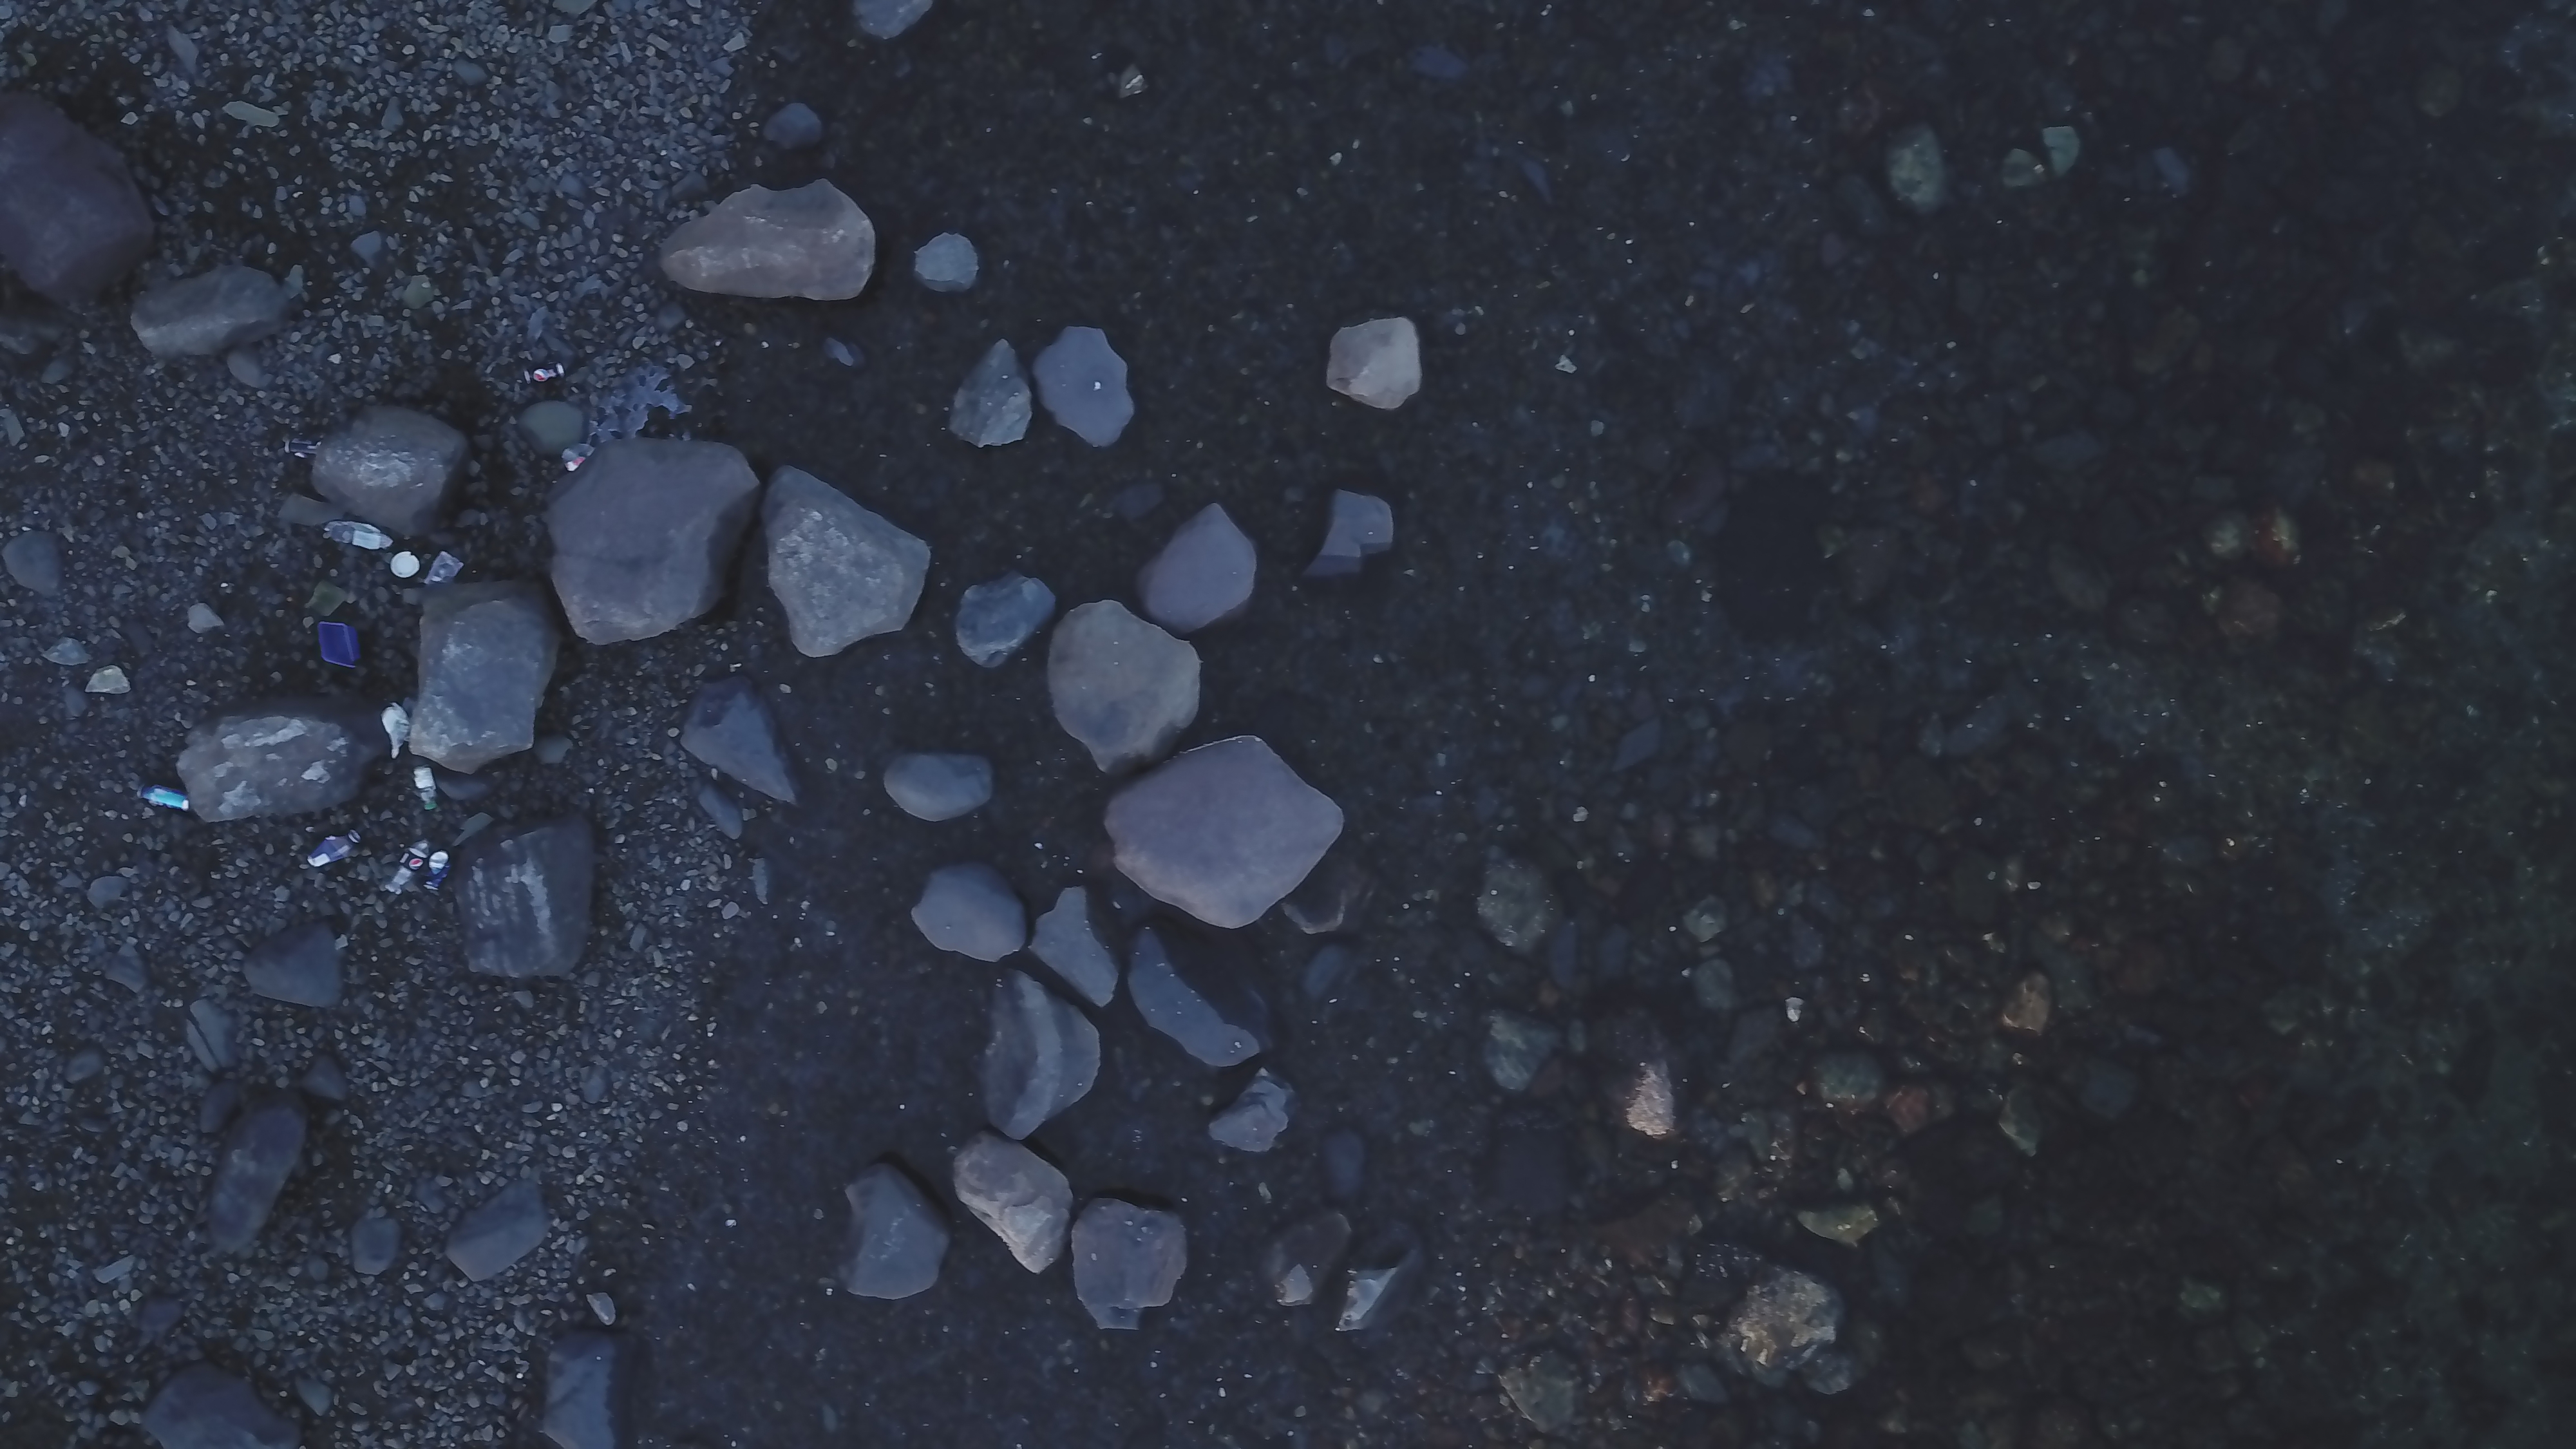Can: (306, 828, 363, 869), (591, 393, 640, 437), (538, 1295, 586, 1339), (134, 782, 195, 814), (1037, 784, 1072, 837), (421, 849, 455, 890), (524, 361, 566, 386), (283, 437, 327, 458)
Plastic: (315, 617, 364, 672), (324, 518, 396, 548), (418, 980, 460, 1008), (391, 552, 421, 579), (561, 455, 586, 476)
PlasticBottle: (386, 837, 433, 895), (619, 180, 681, 212), (600, 221, 669, 246), (165, 1120, 200, 1162), (964, 709, 1028, 732), (310, 380, 350, 416), (412, 764, 441, 810), (665, 764, 695, 807), (142, 1159, 191, 1177)
